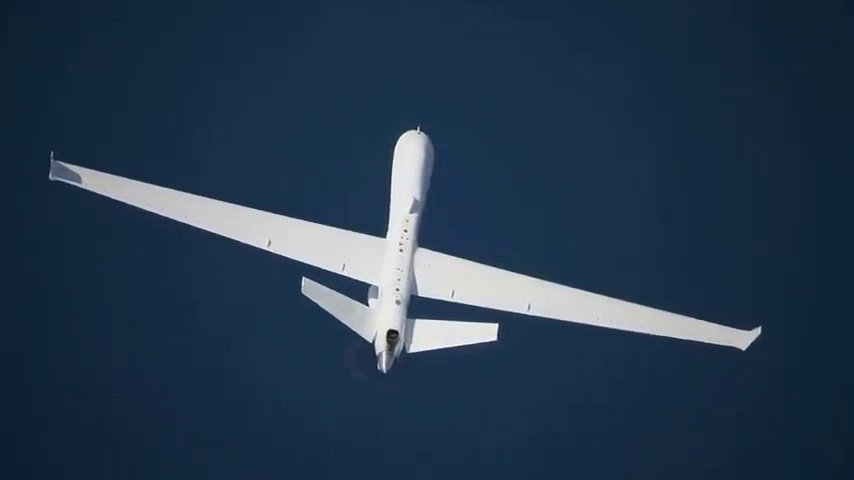military drone: (49, 125, 763, 373)
